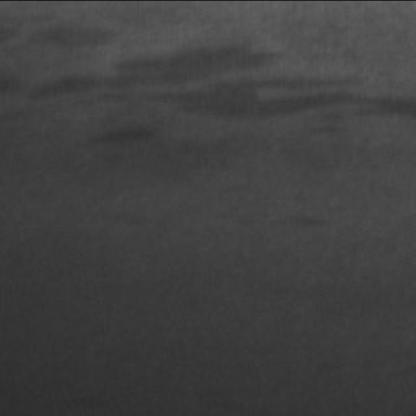inclusion: (11, 33, 406, 133)
